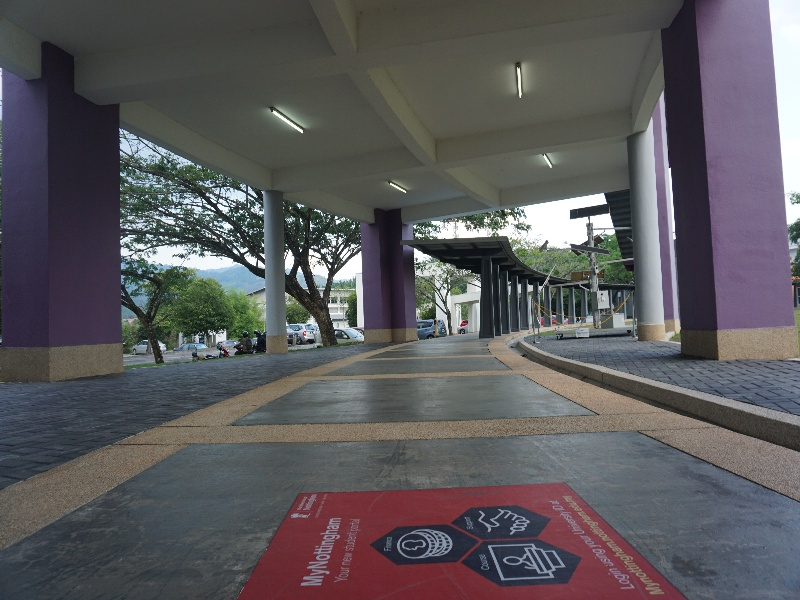Block D Pillar 4: (3, 1, 800, 517)
pillar: (659, 10, 795, 377), (4, 41, 134, 383), (352, 209, 422, 346), (257, 188, 296, 354)
